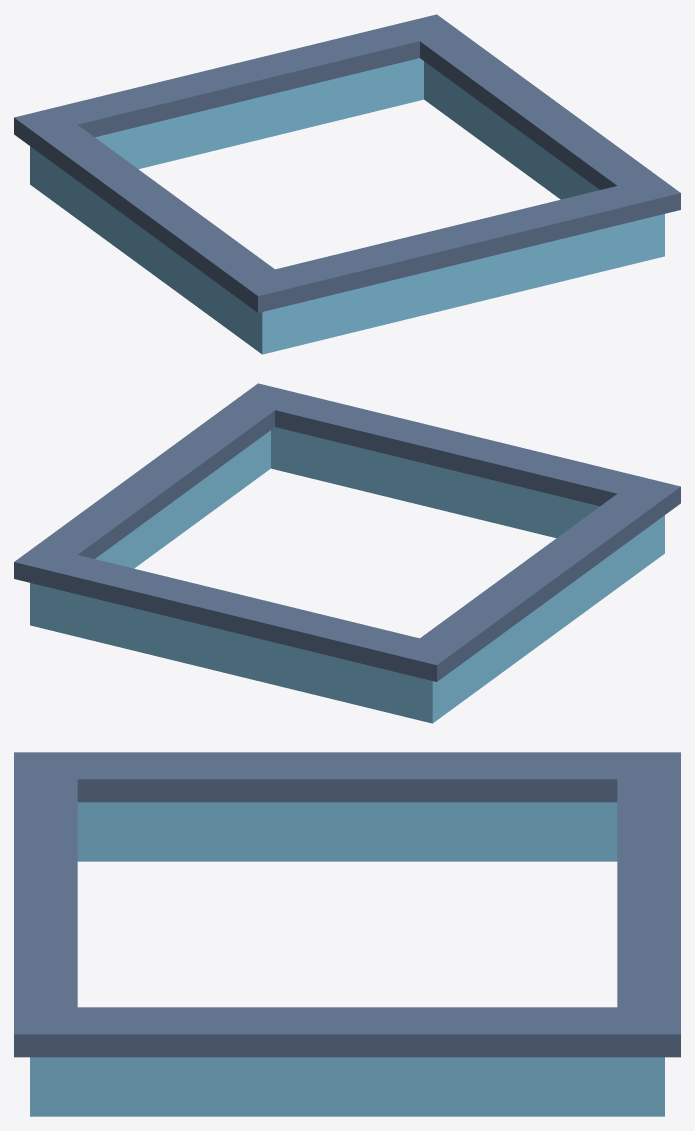
Rendered from dropZone.fbx.
3 views of the same model, one above another, from view 1: azimuth 30°, elevation 25°; view 2: azimuth 150°, elevation 25°; view 3: azimuth 270°, elevation 25° (orthographic). The views are drawn at different scales.
Visible parts, largest first — view 1: cuboid, cuboid_4, cuboid_5, cuboid_1, cuboid_6, cuboid_7, cuboid_2, cuboid_3; view 2: cuboid_1, cuboid_5, cuboid_4, cuboid, cuboid_6, cuboid_7, cuboid_2, cuboid_3; view 3: cuboid_3, cuboid_2, cuboid_6, cuboid_7, cuboid_4, cuboid_5, cuboid, cuboid_1.
Boxes of the visible parts, box(x1,y1,x2,y2) form: cuboid: box(250, 214, 664, 354); cuboid_4: box(235, 176, 680, 312); cuboid_5: box(14, 14, 459, 150); cuboid_1: box(30, 58, 423, 192); cuboid_6: box(37, 124, 274, 295); cuboid_7: box(420, 31, 656, 189); cuboid_2: box(41, 155, 250, 345); cuboid_3: box(424, 61, 599, 199); cuboid_1: box(30, 583, 444, 723); cuboid_5: box(14, 545, 459, 681); cuboid_4: box(235, 383, 680, 519); cuboid: box(271, 427, 664, 561); cuboid_6: box(420, 493, 657, 664); cuboid_7: box(38, 400, 274, 558); cuboid_2: box(444, 524, 653, 714); cuboid_3: box(95, 430, 270, 568); cuboid_3: box(61, 1057, 633, 1116); cuboid_2: box(77, 802, 617, 861); cuboid_6: box(77, 752, 617, 802); cuboid_7: box(77, 1007, 617, 1057); cuboid_4: box(14, 752, 77, 1057); cuboid_5: box(617, 752, 680, 1057); cuboid: box(30, 1057, 61, 1116); cuboid_1: box(633, 1057, 664, 1116).
Size of the model in its own units: 65.62 by 9.66 by 65.63.
Materials: 1 (1 with a texture image).
